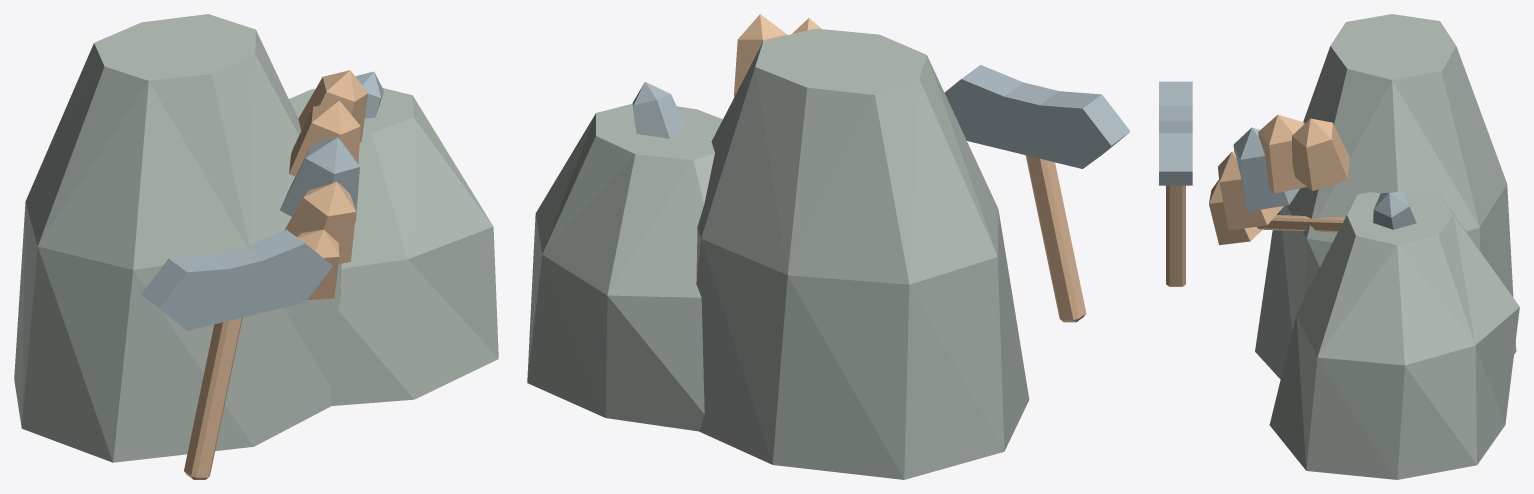
Rendered from world_ore_vein_b.fbx.
The picture shows the model from 3 angles, left to right: view 1: azimuth 30°, elevation 25°; view 2: azimuth 150°, elevation 25°; view 3: azimuth 270°, elevation 25°; orthographic projection. The views are drawn at different scales.
Parts seen in each view (by area): view 1: world_ore_vein_b_mesh; view 2: world_ore_vein_b_mesh; view 3: world_ore_vein_b_mesh.
Part boxes in pixels (<box>): world_ore_vein_b_mesh: <box>14,14,498,479</box>; world_ore_vein_b_mesh: <box>527,14,1130,479</box>; world_ore_vein_b_mesh: <box>1159,14,1519,479</box>.
Bounding box in the file's own units: 0.8809 × 0.64 × 0.6844.
